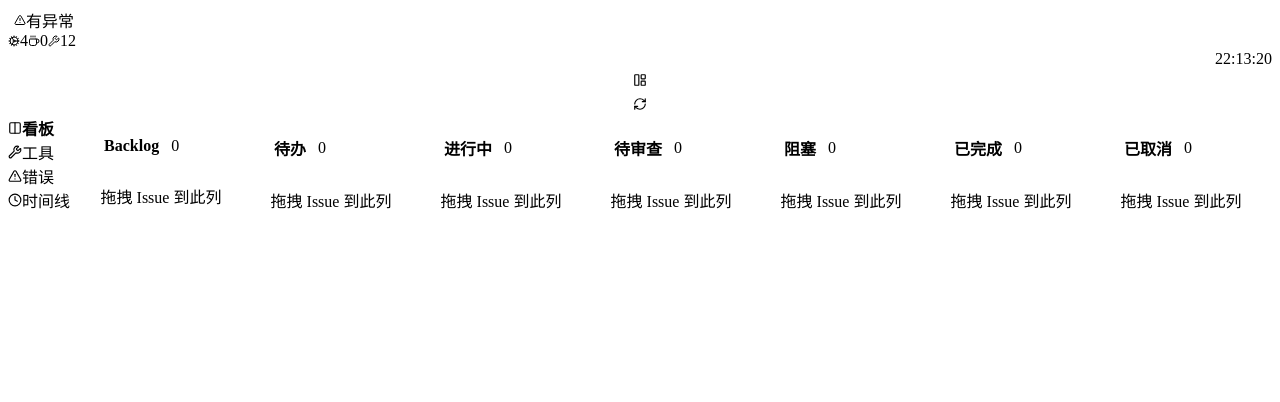
it: LO-UI 监控面板 › LO-UI-7: 错误子视图渲染失败工具与出错角色；时间线支持类别过滤
This screenshot has width=1280, height=402.
Click the button with class "lo-nav__btn" showing "错误" at [39, 176], box [8,164,70,188]
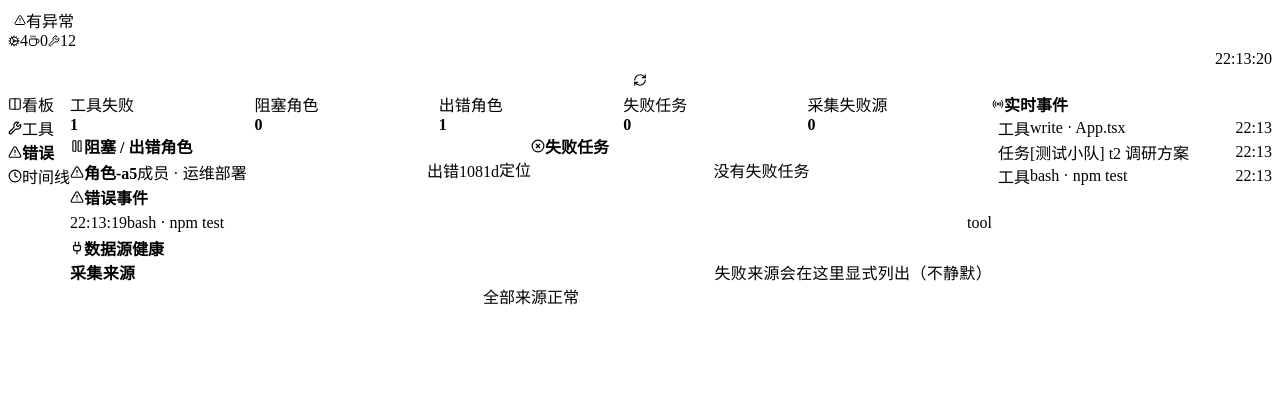
Expected: the text "bash · npm test" next to "22:13:19" is shown, [127,214,224,231]
Click the button with class "lo-nav__btn" showing "时间线" at [39, 176], box [8,164,70,188]
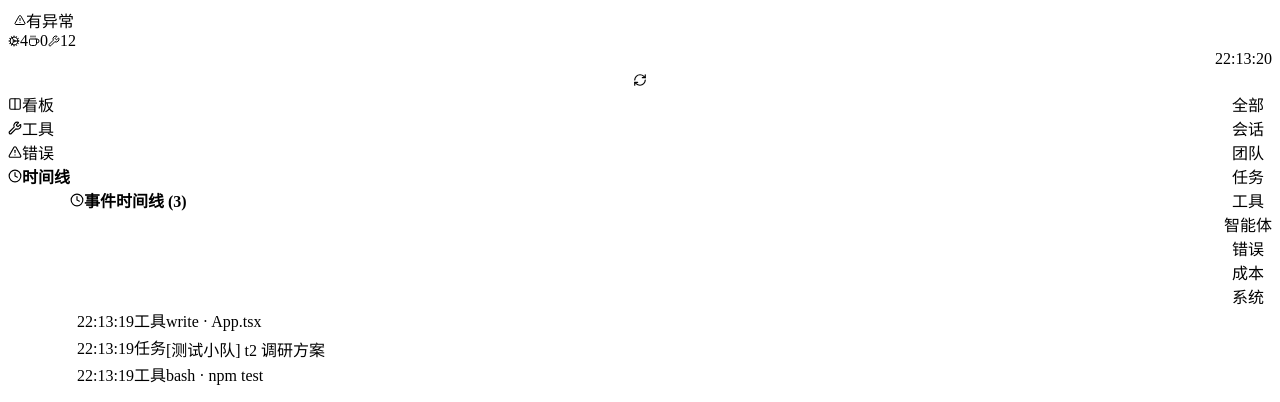
Click the button with class "lo-filter__btn" in the row of "事件时间线 (3)" at [1248, 200], box [1224,188,1272,212]
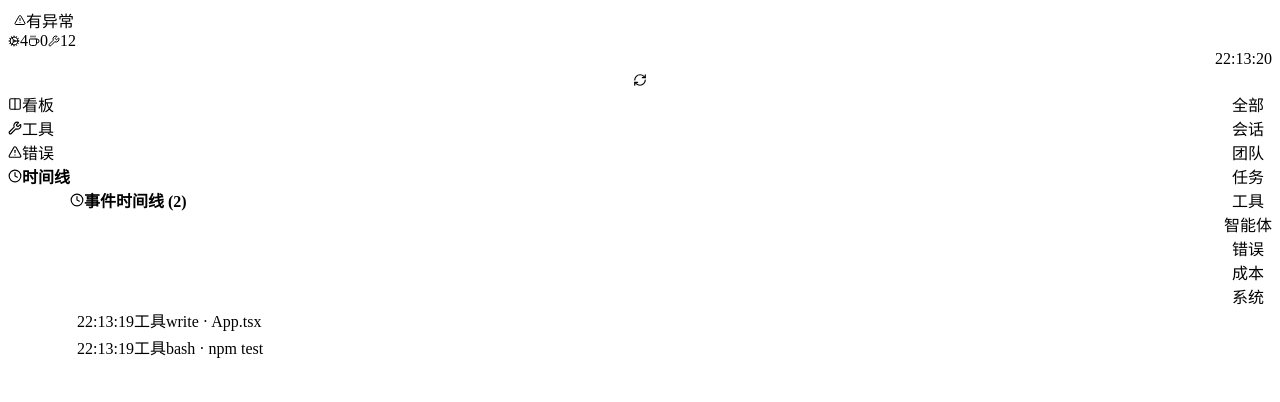
Expected: the number of list items with class "lo-timeline__item" is 2, [77,313,262,330]; [77,340,263,357]
